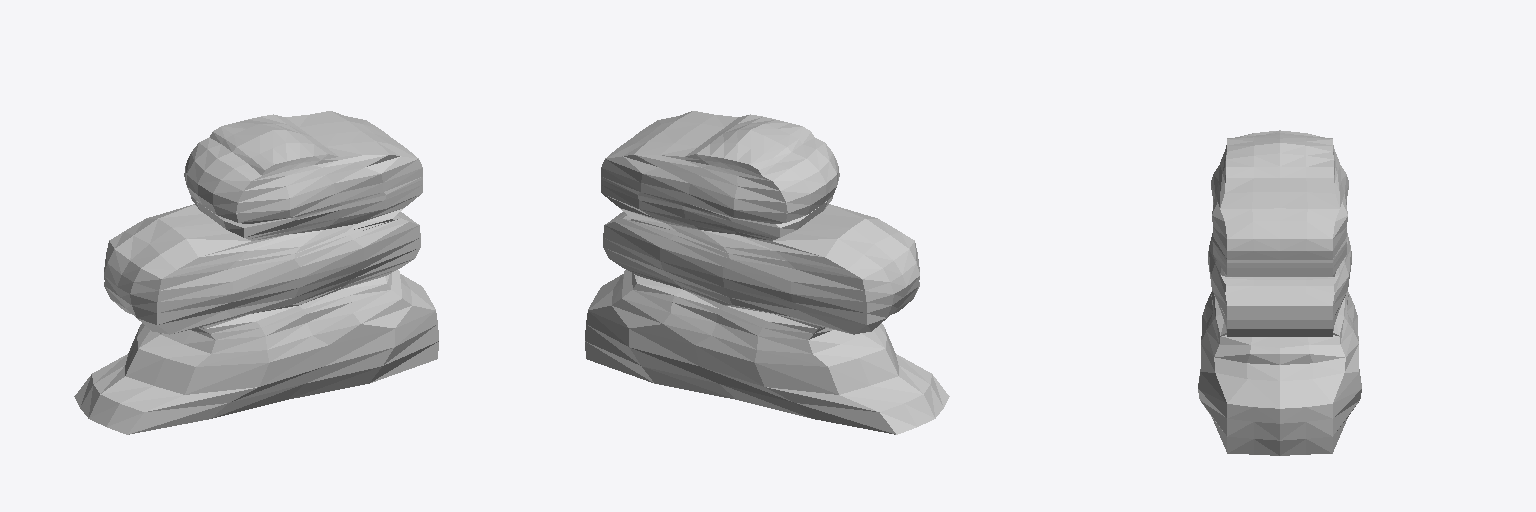
Rendered from StoneFormation_large.obj.
3 views of the same model, side by side, from view 1: azimuth 30°, elevation 25°; view 2: azimuth 150°, elevation 25°; view 3: azimuth 270°, elevation 25° (orthographic).
Visible parts, largest first — view 1: Stone1 StoneFormation_large, StoneFormation_large Stone2, StoneFormation_large Stone3; view 2: Stone1 StoneFormation_large, StoneFormation_large Stone2, StoneFormation_large Stone3; view 3: Stone1 StoneFormation_large, StoneFormation_large Stone3, StoneFormation_large Stone2.
Boxes of the visible parts, x1=… form: Stone1 StoneFormation_large: x1=74, y1=270, x2=438, y2=434; StoneFormation_large Stone2: x1=104, y1=204, x2=420, y2=334; StoneFormation_large Stone3: x1=184, y1=111, x2=422, y2=240; Stone1 StoneFormation_large: x1=585, y1=270, x2=949, y2=434; StoneFormation_large Stone2: x1=603, y1=204, x2=919, y2=334; StoneFormation_large Stone3: x1=601, y1=111, x2=839, y2=240; Stone1 StoneFormation_large: x1=1198, y1=291, x2=1361, y2=455; StoneFormation_large Stone3: x1=1211, y1=130, x2=1348, y2=276; StoneFormation_large Stone2: x1=1208, y1=233, x2=1351, y2=336.
Bounding box in the file's own units: 8.63 × 6 × 3.68.